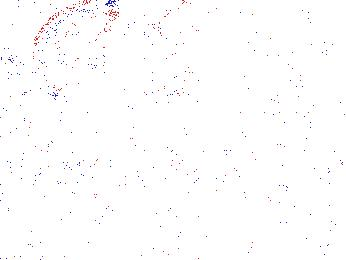moon jellyfish: (32, 3, 120, 97), (280, 72, 346, 189), (1, 60, 56, 151), (128, 20, 191, 99), (241, 23, 319, 86)
